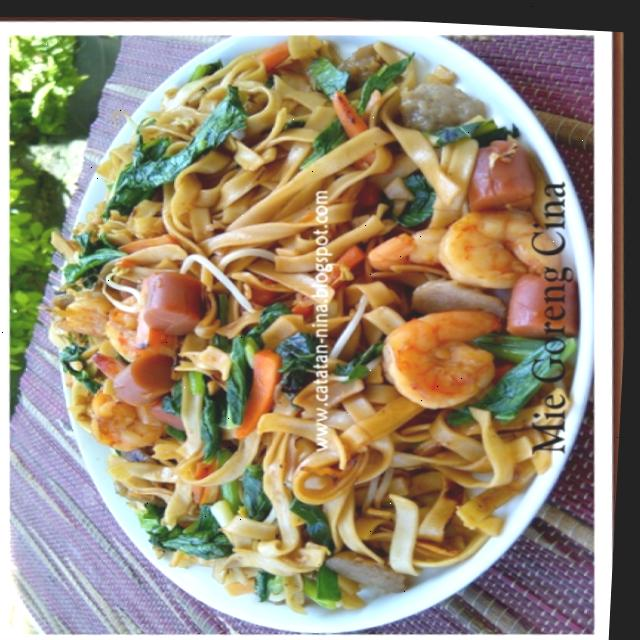面条主食: (0, 11, 586, 640)
